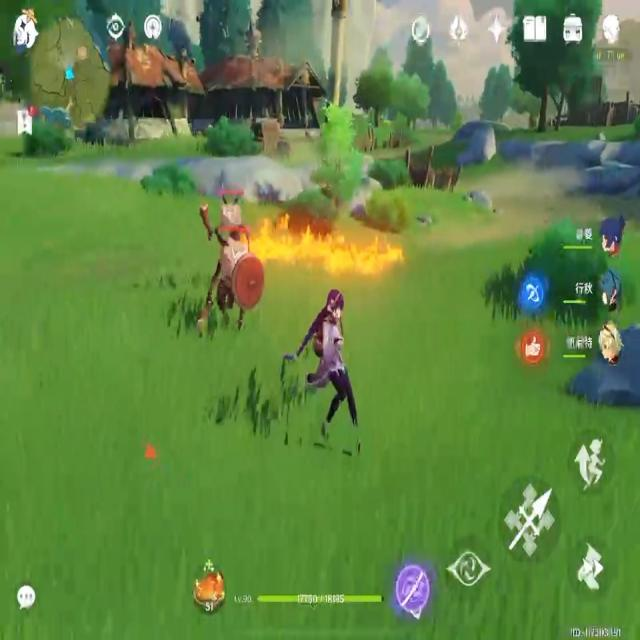genshin-hilichurls: (204, 245, 268, 338), (204, 198, 245, 236)
